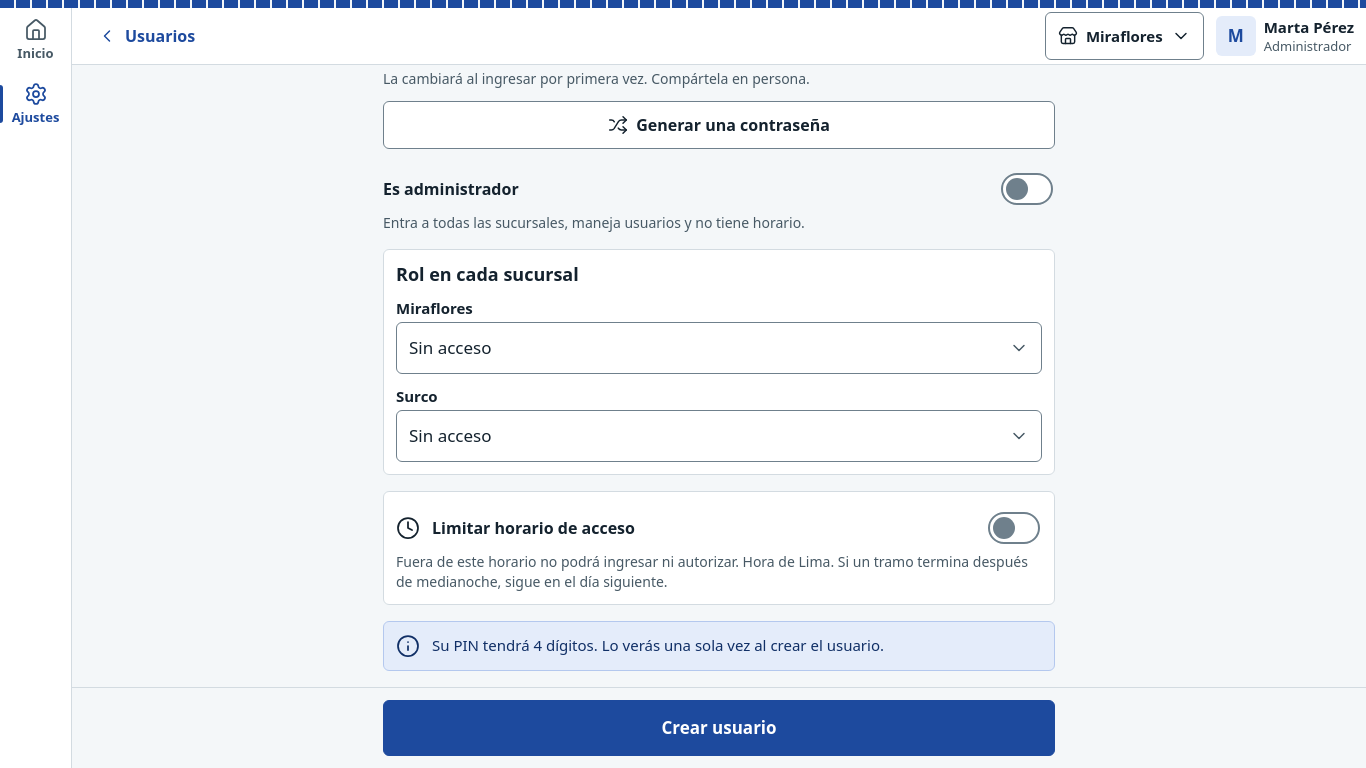
Scenario: alta de usuario › un Cajero lleva PIN de 6 dígitos y lo avisa antes de guardar
(page scrolled)
Select "Cajero" in the dropdown labelled "Surco" at (703, 436), box left=397, top=412, right=1009, bottom=460
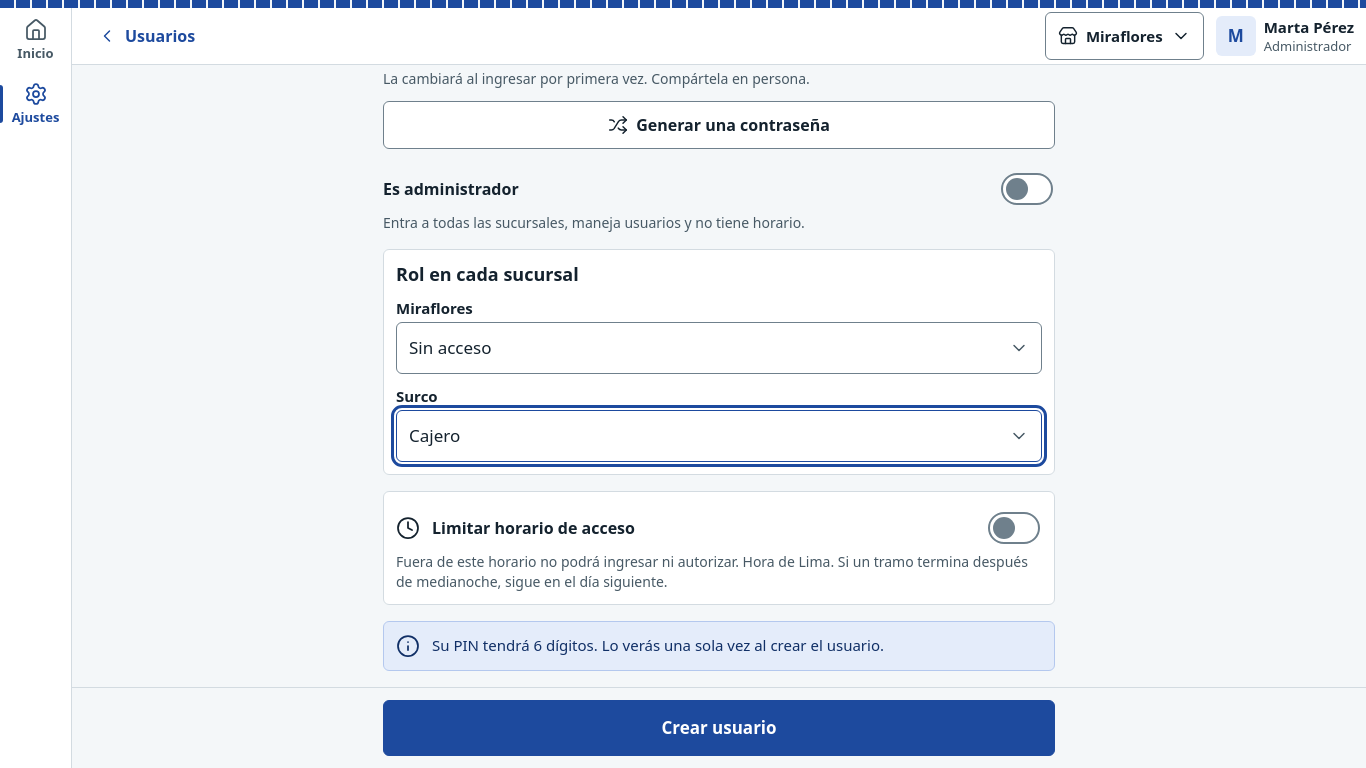
Result: the text "Su PIN tendrá 6 dígitos. Lo verás una sola vez al crear el usuario." is shown at left=432, top=635, right=884, bottom=655
